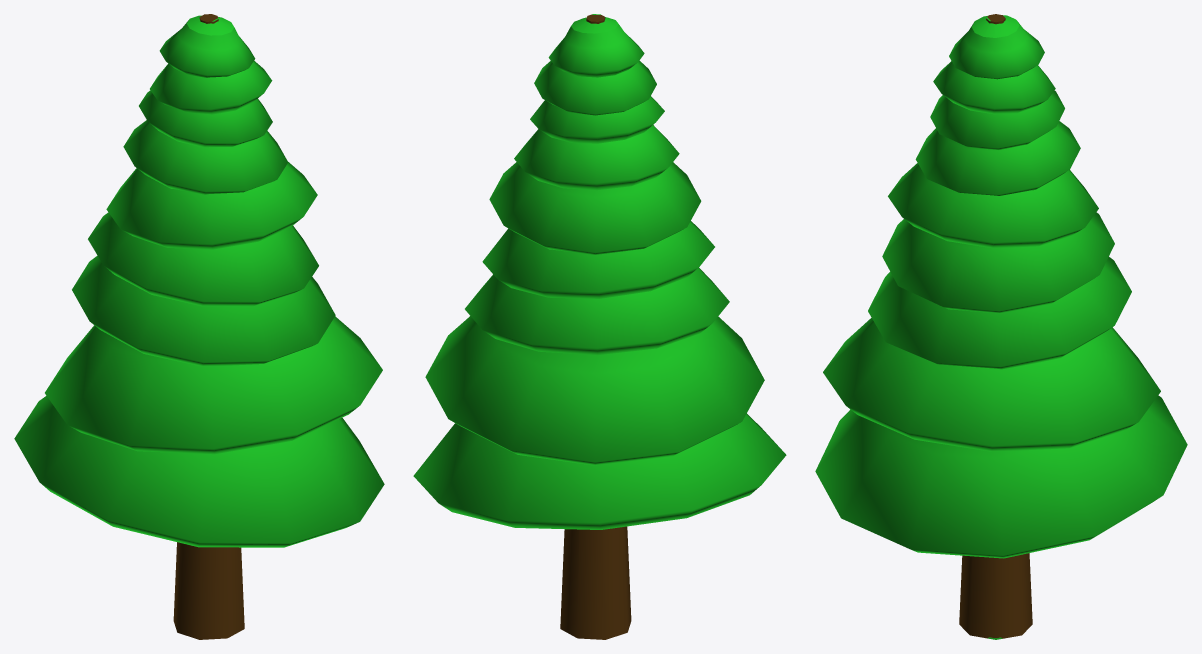
Rendered from Pine_Tree.fbx.
The picture shows the model from 3 angles, left to right: view 1: azimuth 30°, elevation 25°; view 2: azimuth 150°, elevation 25°; view 3: azimuth 270°, elevation 25°; orthographic projection.
Visible parts, largest first — view 1: Circle, Cylinder; view 2: Circle, Cylinder; view 3: Circle, Cylinder.
Boxes of the visible parts, x1,y1,x2,y2 form: Circle: (14,15,384,547); Cylinder: (173,14,244,639); Circle: (413,17,786,529); Cylinder: (560,14,631,639); Circle: (815,15,1187,558); Cylinder: (959,14,1032,639).
Size of the model in its own units: 466 by 840 by 468.
Materials: 1 (1 with a texture image).
